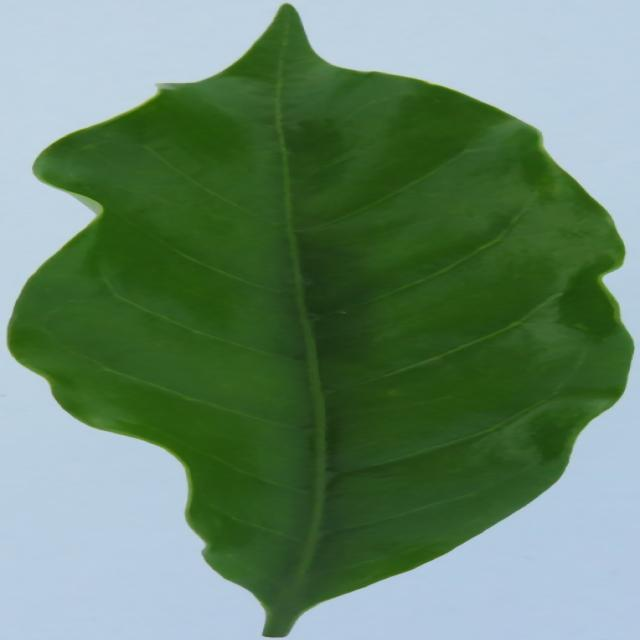DeficienciaNutricional-Calcio: (9, 5, 633, 638)
